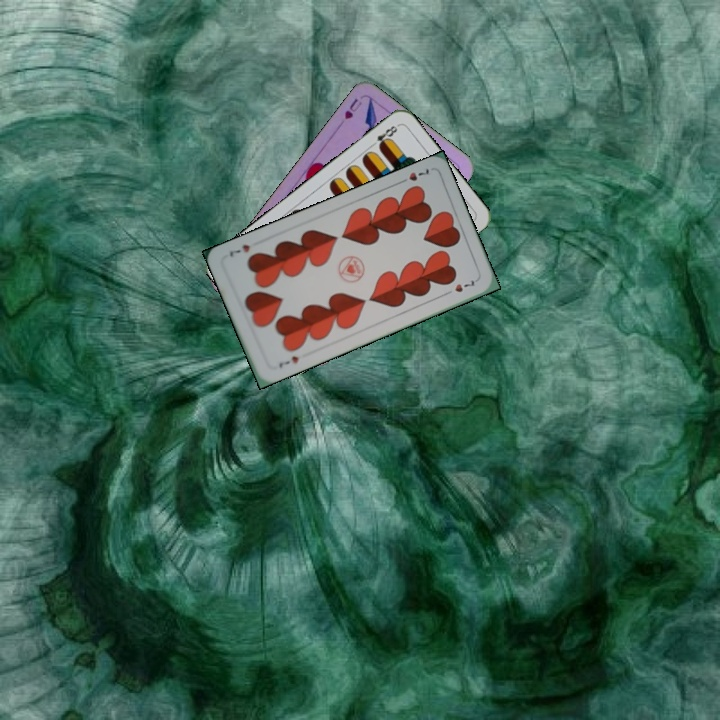E8: (366, 121, 401, 151)
H7: (394, 165, 432, 187), (275, 352, 301, 370)
HU: (340, 94, 365, 122)
